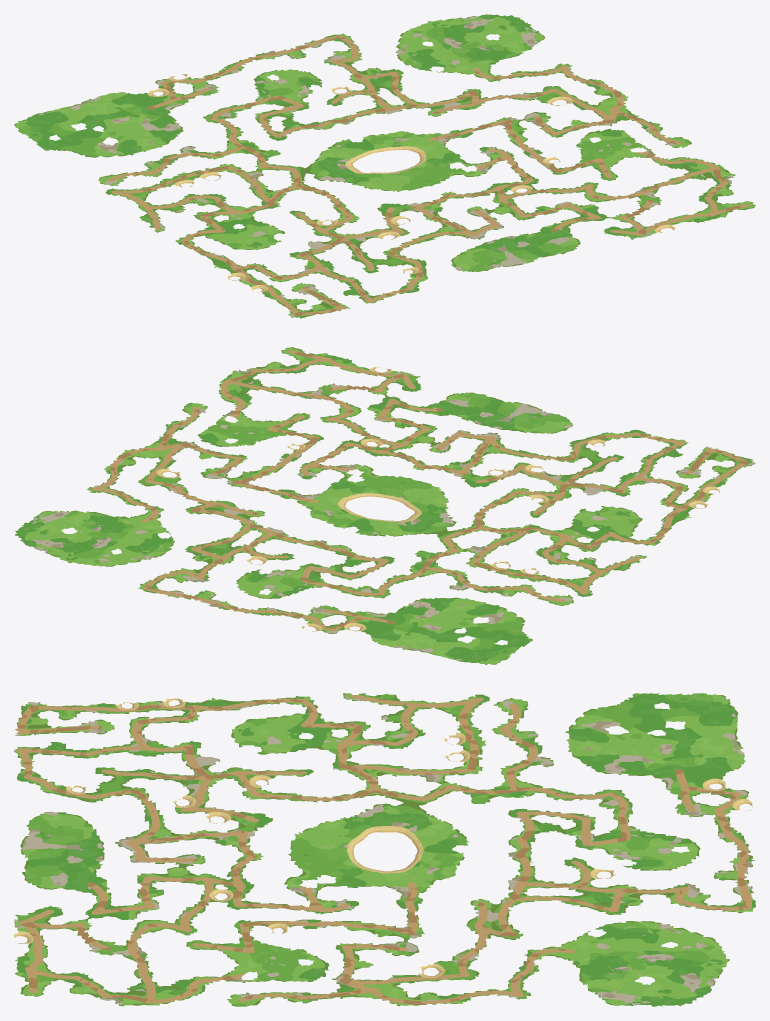
Rendered from Dungeon-1-Ground.fbx.
3 renders of one model, top to bottom at view 1: azimuth 30°, elevation 25°; view 2: azimuth 150°, elevation 25°; view 3: azimuth 270°, elevation 25°, orthographic. The views are drawn at different scales.
Parts seen in each view (by area): view 1: Dungeon-1-Ground-c66, Dungeon-1-Ground-c16, Dungeon-1-Ground-c17, Dungeon-1-Ground-c40, Dungeon-1-Ground-c76, Dungeon-1-Ground-c43, Dungeon-1-Ground-c06, Dungeon-1-Ground-c30, Dungeon-1-Ground-c07, Dungeon-1-Ground-c36, Dungeon-1-Ground-c33, Dungeon-1-Ground-c44 (+50 smaller); view 2: Dungeon-1-Ground-c66, Dungeon-1-Ground-c16, Dungeon-1-Ground-c40, Dungeon-1-Ground-c17, Dungeon-1-Ground-c43, Dungeon-1-Ground-c76, Dungeon-1-Ground-c06, Dungeon-1-Ground-c30, Dungeon-1-Ground-c07, Dungeon-1-Ground-c33, Dungeon-1-Ground-c36, Dungeon-1-Ground-c27 (+50 smaller); view 3: Dungeon-1-Ground-c66, Dungeon-1-Ground-c16, Dungeon-1-Ground-c40, Dungeon-1-Ground-c17, Dungeon-1-Ground-c76, Dungeon-1-Ground-c43, Dungeon-1-Ground-c06, Dungeon-1-Ground-c30, Dungeon-1-Ground-c07, Dungeon-1-Ground-c33, Dungeon-1-Ground-c36, Dungeon-1-Ground-c27 (+52 smaller).
Boxes of the visible parts, left/top/right/bottom form: Dungeon-1-Ground-c66: left=405, top=36, right=499, bottom=73; Dungeon-1-Ground-c16: left=93, top=112, right=181, bottom=153; Dungeon-1-Ground-c17: left=65, top=92, right=155, bottom=127; Dungeon-1-Ground-c40: left=495, top=224, right=580, bottom=263; Dungeon-1-Ground-c76: left=468, top=21, right=544, bottom=59; Dungeon-1-Ground-c43: left=401, top=147, right=485, bottom=186; Dungeon-1-Ground-c06: left=35, top=127, right=127, bottom=157; Dungeon-1-Ground-c30: left=451, top=240, right=526, bottom=271; Dungeon-1-Ground-c07: left=14, top=107, right=91, bottom=141; Dungeon-1-Ground-c36: left=230, top=82, right=309, bottom=121; Dungeon-1-Ground-c33: left=326, top=169, right=423, bottom=191; Dungeon-1-Ground-c44: left=362, top=131, right=446, bottom=154; Dungeon-1-Ground-c66: left=80, top=516, right=170, bottom=556; Dungeon-1-Ground-c16: left=397, top=597, right=496, bottom=633; Dungeon-1-Ground-c40: left=426, top=392, right=522, bottom=426; Dungeon-1-Ground-c17: left=371, top=618, right=460, bottom=654; Dungeon-1-Ground-c43: left=323, top=465, right=415, bottom=500; Dungeon-1-Ground-c76: left=21, top=510, right=113, bottom=541; Dungeon-1-Ground-c06: left=460, top=607, right=532, bottom=648; Dungeon-1-Ground-c30: left=490, top=403, right=572, bottom=433; Dungeon-1-Ground-c07: left=433, top=634, right=518, bottom=664; Dungeon-1-Ground-c33: left=393, top=480, right=450, bottom=522; Dungeon-1-Ground-c36: left=271, top=563, right=365, bottom=593; Dungeon-1-Ground-c27: left=302, top=606, right=396, bottom=636; Dungeon-1-Ground-c66: left=571, top=929, right=666, bottom=969; Dungeon-1-Ground-c16: left=571, top=731, right=666, bottom=771; Dungeon-1-Ground-c40: left=21, top=849, right=104, bottom=889; Dungeon-1-Ground-c17: left=665, top=730, right=745, bottom=771; Dungeon-1-Ground-c76: left=579, top=968, right=666, bottom=1006; Dungeon-1-Ground-c43: left=290, top=849, right=385, bottom=889; Dungeon-1-Ground-c06: left=572, top=693, right=666, bottom=731; Dungeon-1-Ground-c30: left=20, top=811, right=104, bottom=850; Dungeon-1-Ground-c07: left=665, top=693, right=738, bottom=731; Dungeon-1-Ground-c33: left=290, top=810, right=385, bottom=851; Dungeon-1-Ground-c36: left=571, top=810, right=666, bottom=850; Dungeon-1-Ground-c27: left=665, top=770, right=752, bottom=811.
Size of the model in its own units: 87.1 by 0.2156 by 87.09.
